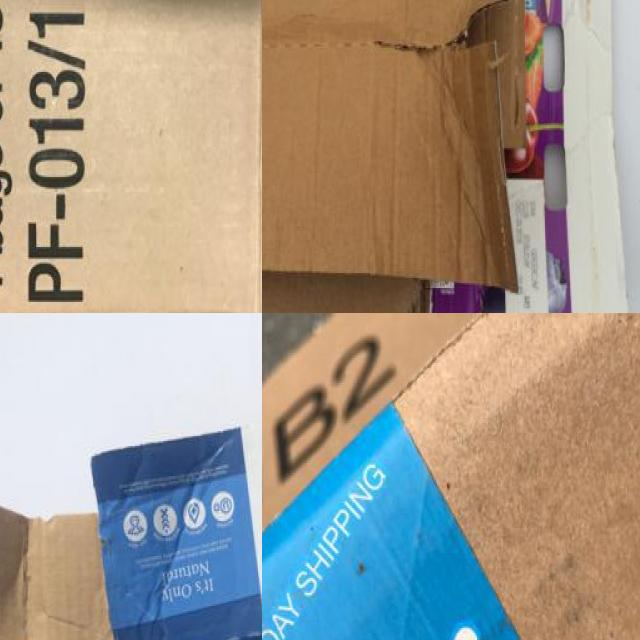class_name: (262, 313, 640, 640), (262, 0, 640, 313), (0, 0, 262, 313), (0, 379, 262, 640)
